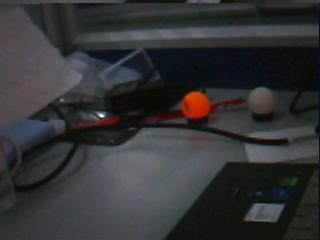oball: (182, 91, 210, 118)
